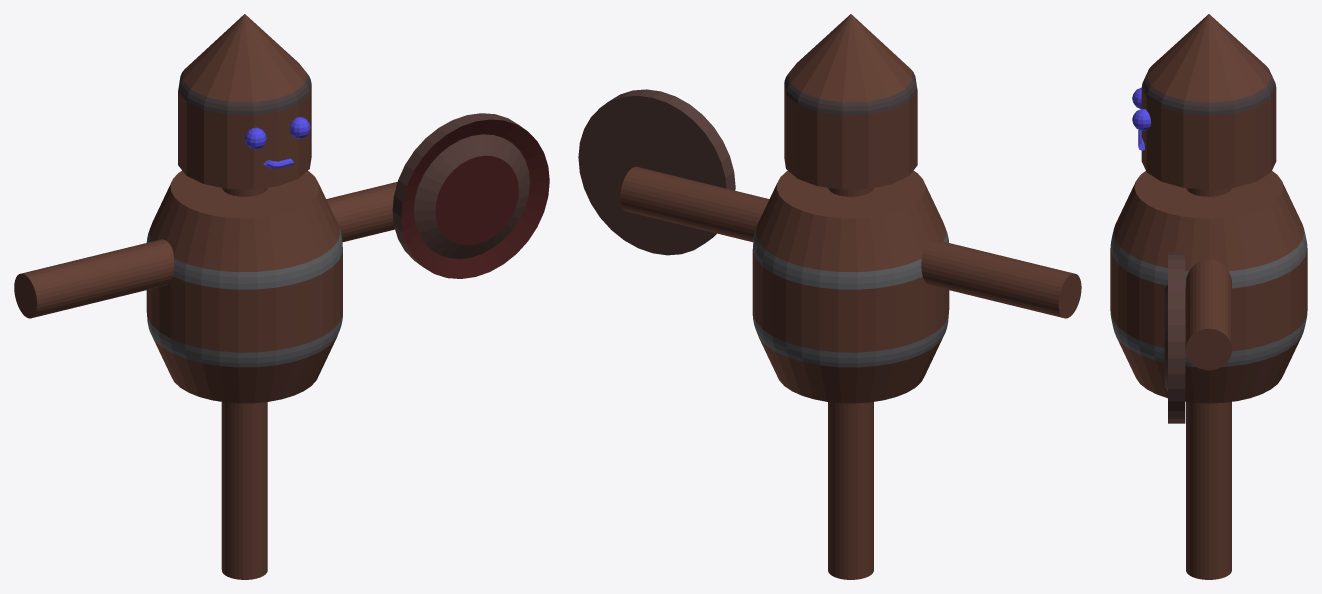
The model's file is dummy2 (1).fbx.
3 renders of one model, left to right at view 1: azimuth 30°, elevation 25°; view 2: azimuth 150°, elevation 25°; view 3: azimuth 270°, elevation 25°, orthographic.
Parts seen in each view (by area): view 1: Cylinder.001, Circle, Cone, Cylinder.003, Cylinder, Sphere; view 2: Cylinder.001, Cone, Circle, Cylinder.003, Cylinder; view 3: Cylinder.001, Cone, Cylinder, Cylinder.003, Circle, Sphere, Cylinder.002.
Boxes of the visible parts, x1,y1,x2,y2 form: Cylinder.001: (146, 170, 342, 403); Circle: (392, 113, 549, 278); Cone: (178, 14, 311, 189); Cylinder.003: (14, 182, 397, 318); Cylinder: (221, 402, 267, 579); Sphere: (245, 117, 310, 149); Cylinder.001: (752, 170, 949, 403); Cone: (784, 14, 917, 189); Circle: (578, 89, 735, 255); Cylinder.003: (620, 166, 1081, 318); Cylinder: (828, 402, 873, 579); Cylinder.001: (1110, 171, 1307, 403); Cone: (1141, 14, 1276, 189); Cylinder: (1186, 402, 1231, 579); Cylinder.003: (1186, 260, 1231, 370); Circle: (1164, 252, 1185, 423); Sphere: (1132, 87, 1151, 130); Cylinder.002: (1186, 188, 1231, 196).
Bounding box in the file's own units: 1262 × 1331 × 428.
